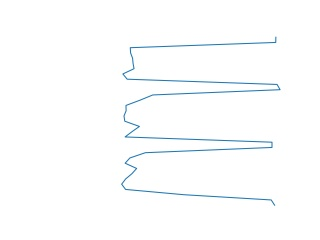majorRiverChannelBar: (117, 36, 285, 208)
